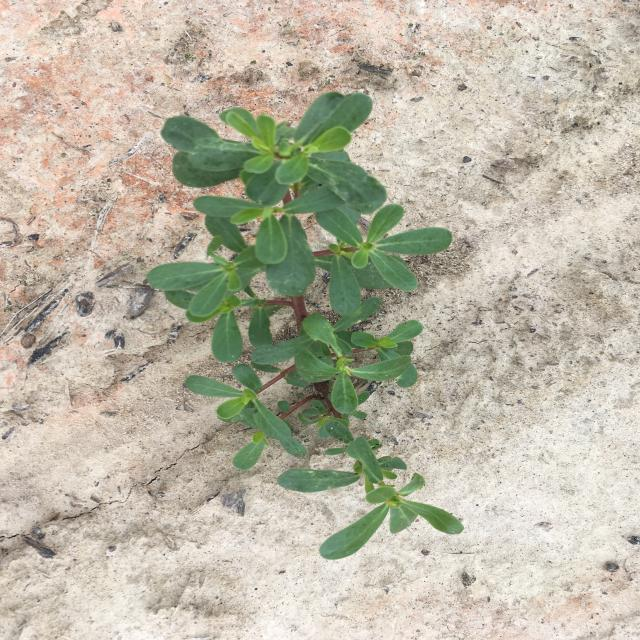Purslane: (147, 92, 465, 560)
